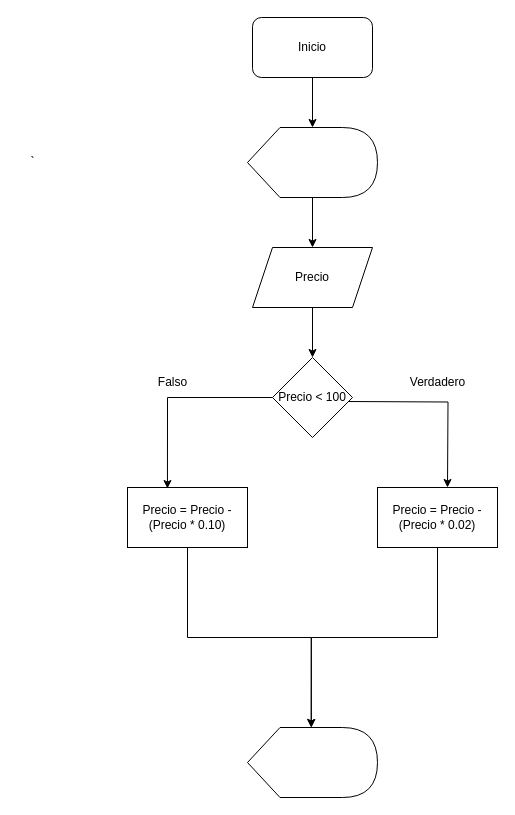
This 515x815 diagram has some shape labels left out. The centre of each missing label's shape, as x and y in pixels:
"El precio total es:" Precio: point (312, 762)
"Ingrese el precio": point (312, 162)
